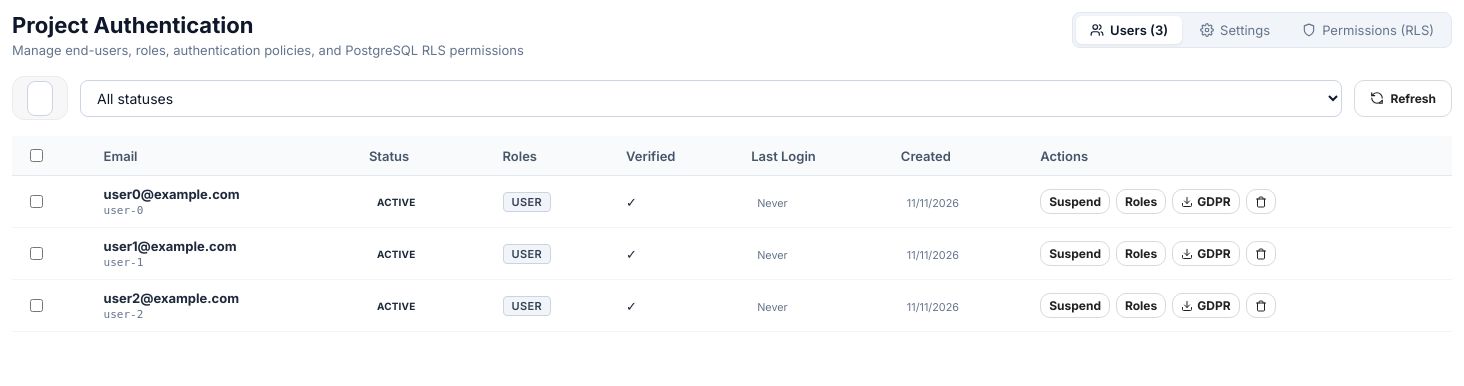
Test: Project Authentication bulk actions › does not apply a role prompt to another environment after navigation
Click the checkbox named "Select displayed users" at (36, 156), box [30,149,43,162]
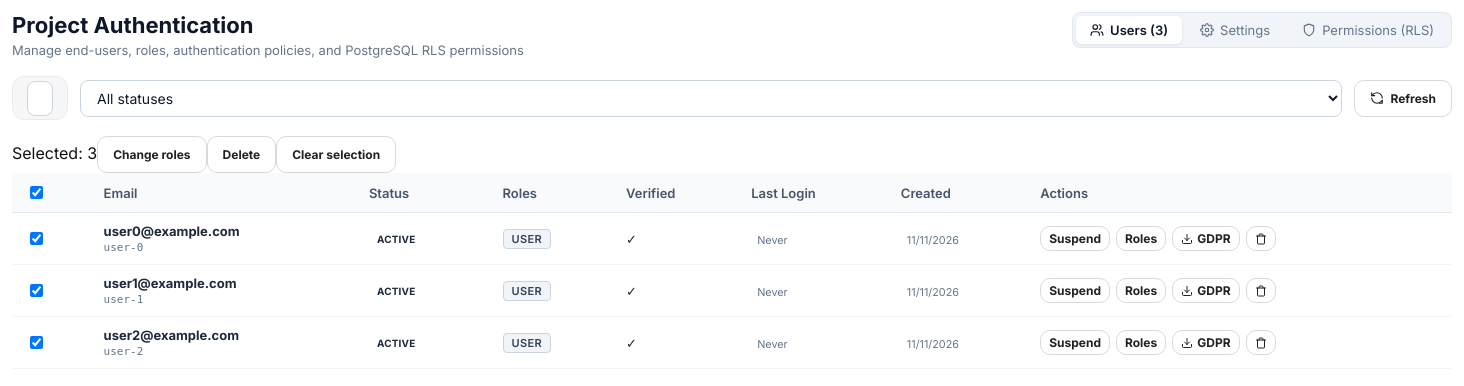
Now the button "Change roles" is shown
Click the button "Change roles" at (152, 154), box [97,136,206,173]
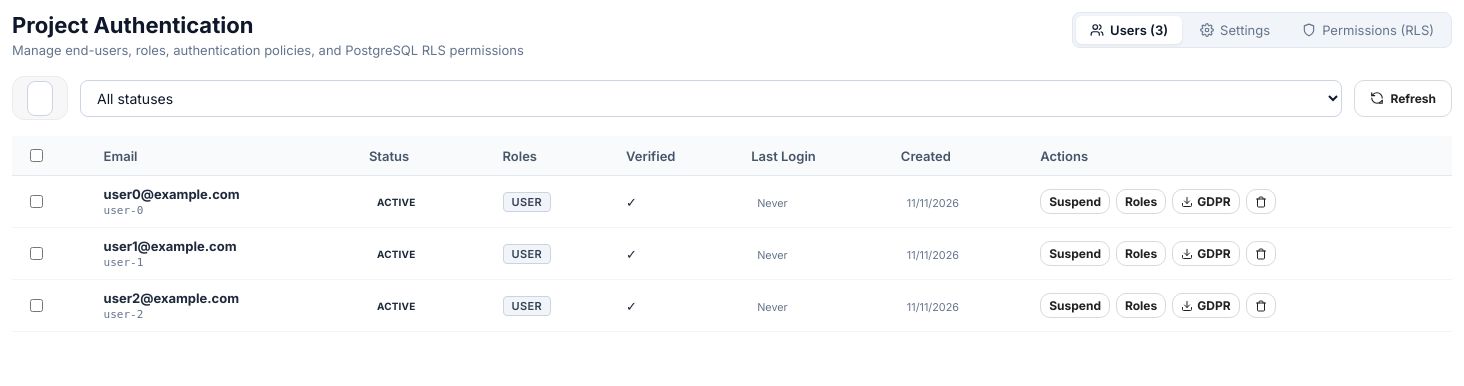
Now the element with class "auth-user-bulk-toolbar" is gone
